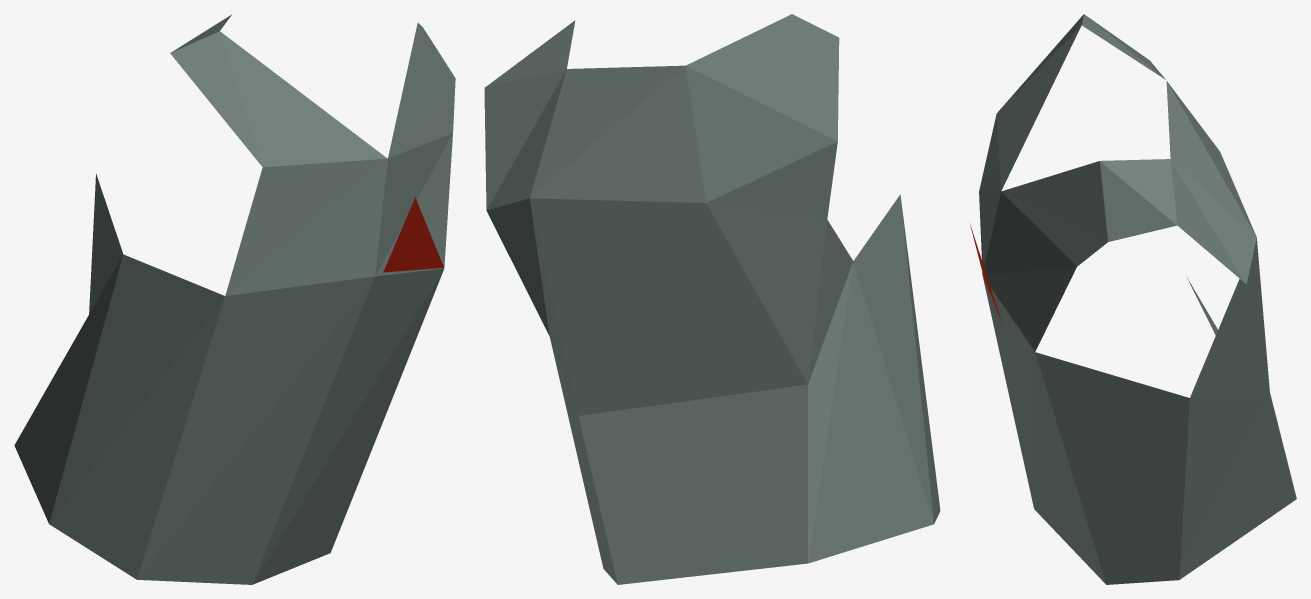
3 views of the same model, side by side, from view 1: azimuth 30°, elevation 25°; view 2: azimuth 150°, elevation 25°; view 3: azimuth 270°, elevation 25° (orthographic). The views are drawn at different scales.
Bounding box in the file's own units: 0.6503 × 0.8458 × 0.4975.
Materials: 2 (2 with a texture image).
